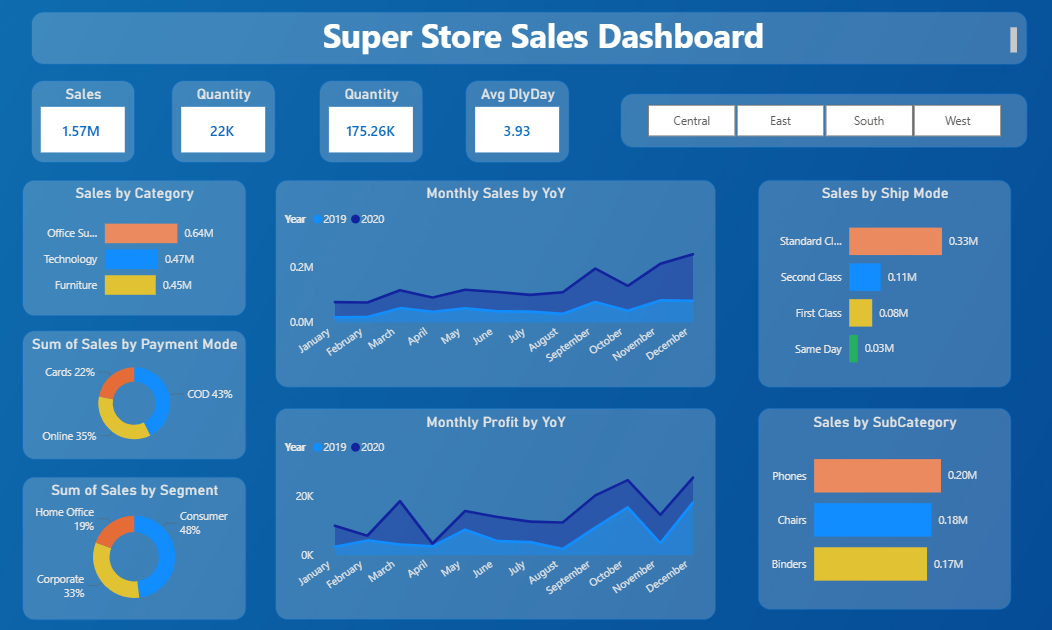

What the dashboard file says about the page in this screenshot:
{"tool":"powerbi","page":{"name":"Page 1","canvas":[1280,720],"ordinal":0},"visuals":[{"type":"clusteredBarChart","title":" Sales by Category","fields":{"Category":["SuperStore_Sales_Dataset.Category"],"Y":["Sum(SuperStore_Sales_Dataset.Sales)"]},"box":[26.7,205,255,155],"z":0},{"type":"clusteredBarChart","title":" Sales by SubCategory","fields":{"Category":["SuperStore_Sales_Dataset.Sub-Category"],"Y":["Sum(SuperStore_Sales_Dataset.Sales)"]},"box":[865,465,288.3,230],"z":1000},{"type":"clusteredBarChart","title":" Sales by Ship Mode","fields":{"Category":["SuperStore_Sales_Dataset.Ship Mode"],"Y":["Sum(SuperStore_Sales_Dataset.Sales)"]},"box":[865,205,288.3,236.7],"z":2000},{"type":"stackedAreaChart","title":"Monthly Sales by YoY","fields":{"Category":["SuperStore_Sales_Dataset.Order Date.Variation.Date Hierarchy.Month","SuperStore_Sales_Dataset.Order Date.Variation.Date Hierarchy.Day"],"Y":["Sum(SuperStore_Sales_Dataset.Sales)"],"Series":["SuperStore_Sales_Dataset.Order Date.Variation.Date Hierarchy.Year"]},"box":[315,205,501.7,236.7],"z":3000},{"type":"stackedAreaChart","title":"Monthly Profit by YoY","fields":{"Category":["SuperStore_Sales_Dataset.Order Date.Variation.Date Hierarchy.Month","SuperStore_Sales_Dataset.Order Date.Variation.Date Hierarchy.Day"],"Series":["SuperStore_Sales_Dataset.Order Date.Variation.Date Hierarchy.Year"],"Y":["Sum(SuperStore_Sales_Dataset.Profit)"]},"box":[315,465,501.7,241.7],"z":4000},{"type":"donutChart","fields":{"Category":["SuperStore_Sales_Dataset.Segment"],"Y":["Sum(SuperStore_Sales_Dataset.Sales)"]},"box":[26.7,543.3,255,163.3],"z":5000},{"type":"donutChart","fields":{"Category":["SuperStore_Sales_Dataset.Payment Mode"],"Y":["Sum(SuperStore_Sales_Dataset.Sales)"]},"box":[26.7,376.7,255,146.7],"z":6000},{"type":"slicer","title":"Region","fields":{"Values":["SuperStore_Sales_Dataset.Region"]},"box":[708.3,106.7,463.3,61.7],"z":7000},{"type":"textbox","box":[36.7,13.3,1135,60],"z":8000},{"type":"cardVisual","title":"Sales","fields":{"Data":["Sum(SuperStore_Sales_Dataset.Sales)"]},"box":[36.7,91.7,118.3,93.3],"z":9000},{"type":"cardVisual","title":"Quantity","fields":{"Data":["Sum(SuperStore_Sales_Dataset.Quantity)"]},"box":[196.7,91.7,118.3,93.3],"z":10000},{"type":"cardVisual","title":"Quantity","fields":{"Data":["Sum(SuperStore_Sales_Dataset.Profit)"]},"box":[365,91.7,118.3,93.3],"z":11000},{"type":"cardVisual","title":"Avg DlyDay","fields":{"Data":["Avg(SuperStore_Sales_Dataset.AvgDelivery)"]},"box":[531.7,91.7,118.3,93.3],"z":12000}]}

Visuals, with their boxes on the page's 1280x720 design canvas (x1, y1, x2, y2). These are canvas units, not pixel positions in the 1052x630 screenshot, which may show the page scaled, cropped or inside an application window:
" Sales by Category" clusteredBarChart: locate(27, 205, 282, 360)
" Sales by SubCategory" clusteredBarChart: locate(865, 465, 1153, 695)
" Sales by Ship Mode" clusteredBarChart: locate(865, 205, 1153, 442)
"Monthly Sales by YoY" stackedAreaChart: locate(315, 205, 817, 442)
"Monthly Profit by YoY" stackedAreaChart: locate(315, 465, 817, 707)
donutChart - SuperStore_Sales_Dataset.Segment x Sum(SuperStore_Sales_Dataset.Sales): locate(27, 543, 282, 707)
donutChart - SuperStore_Sales_Dataset.Payment Mode x Sum(SuperStore_Sales_Dataset.Sales): locate(27, 377, 282, 523)
"Region" slicer: locate(708, 107, 1172, 168)
textbox: locate(37, 13, 1172, 73)
"Sales" cardVisual: locate(37, 92, 155, 185)
"Quantity" cardVisual: locate(197, 92, 315, 185)
"Quantity" cardVisual: locate(365, 92, 483, 185)
"Avg DlyDay" cardVisual: locate(532, 92, 650, 185)
